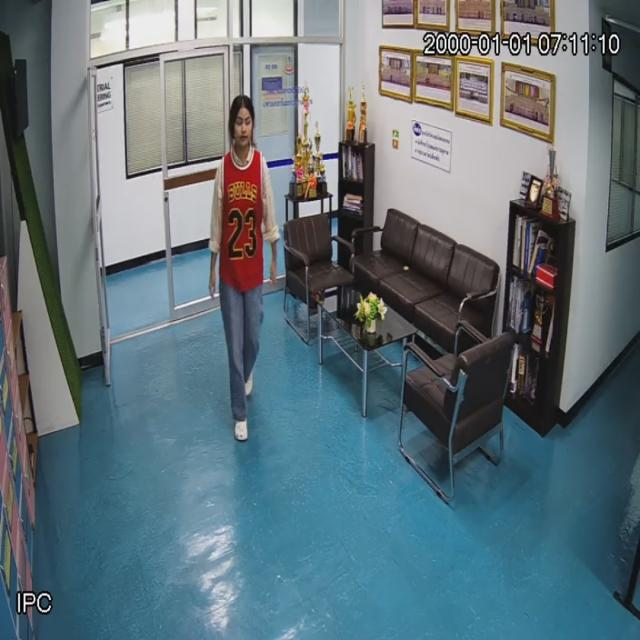normal: (207, 94, 278, 430)
